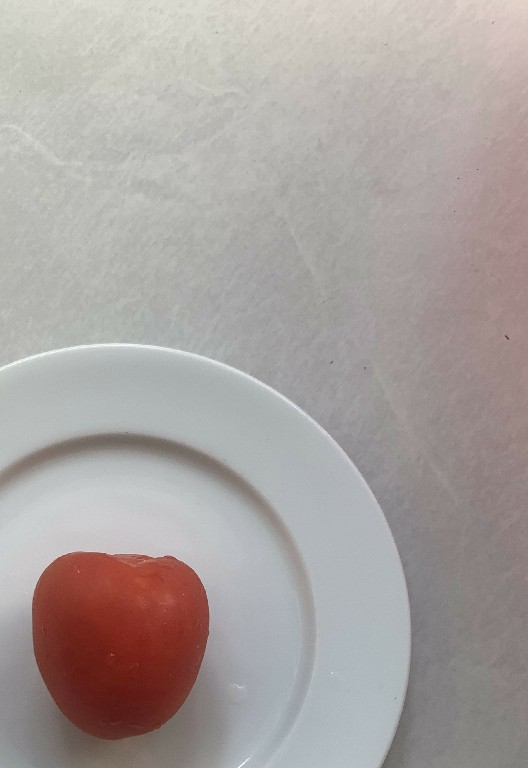OK: (30, 543, 210, 748)
